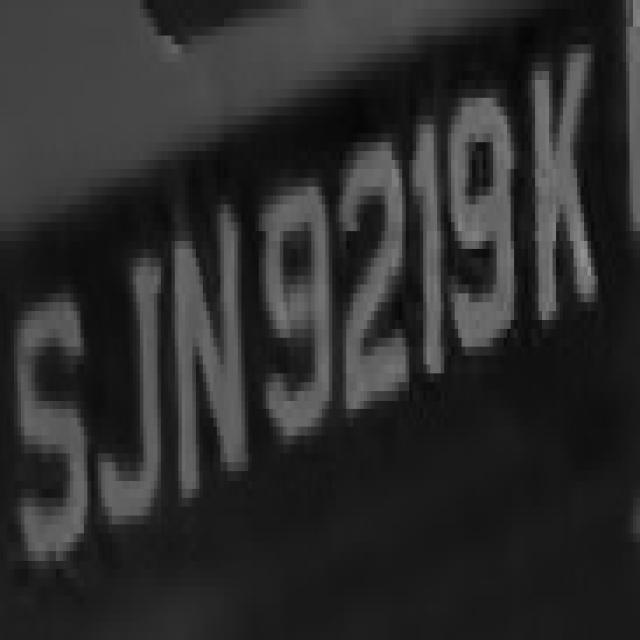1: (402, 80, 451, 418)
2: (336, 107, 409, 444)
9: (248, 160, 336, 462), (437, 89, 514, 364)
J: (80, 196, 168, 551)
K: (514, 35, 602, 338)
N: (164, 186, 248, 524)
S: (4, 249, 94, 613)
